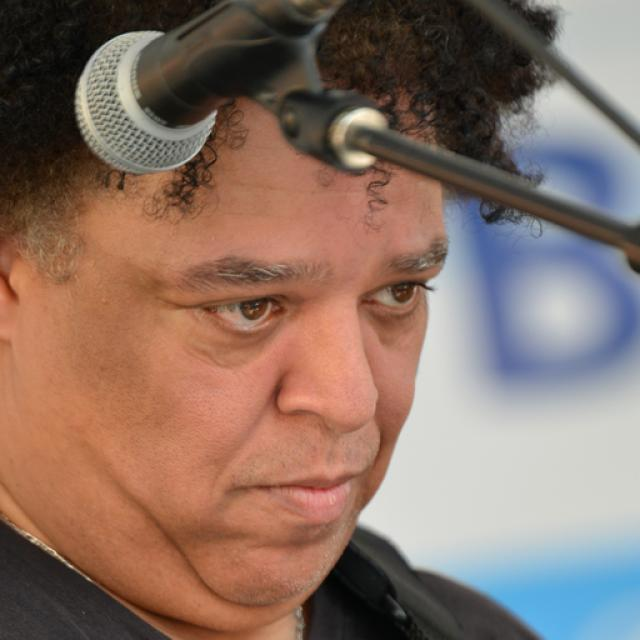anger: (65, 127, 452, 608)
